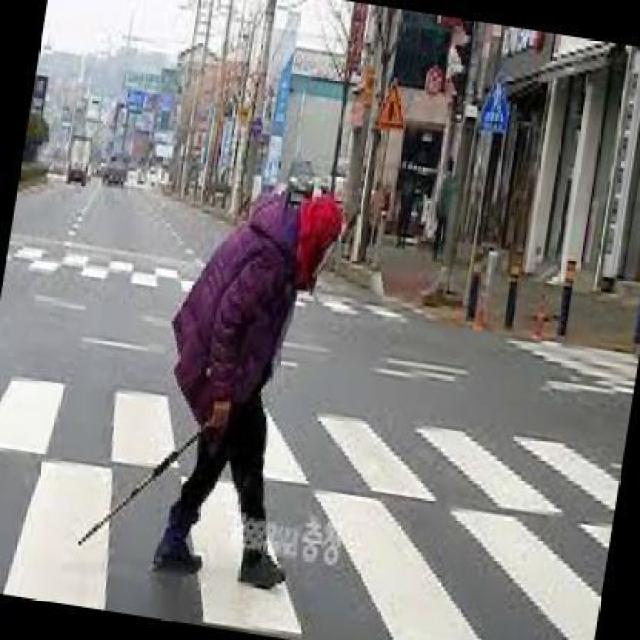Person: (78, 165, 345, 592)
